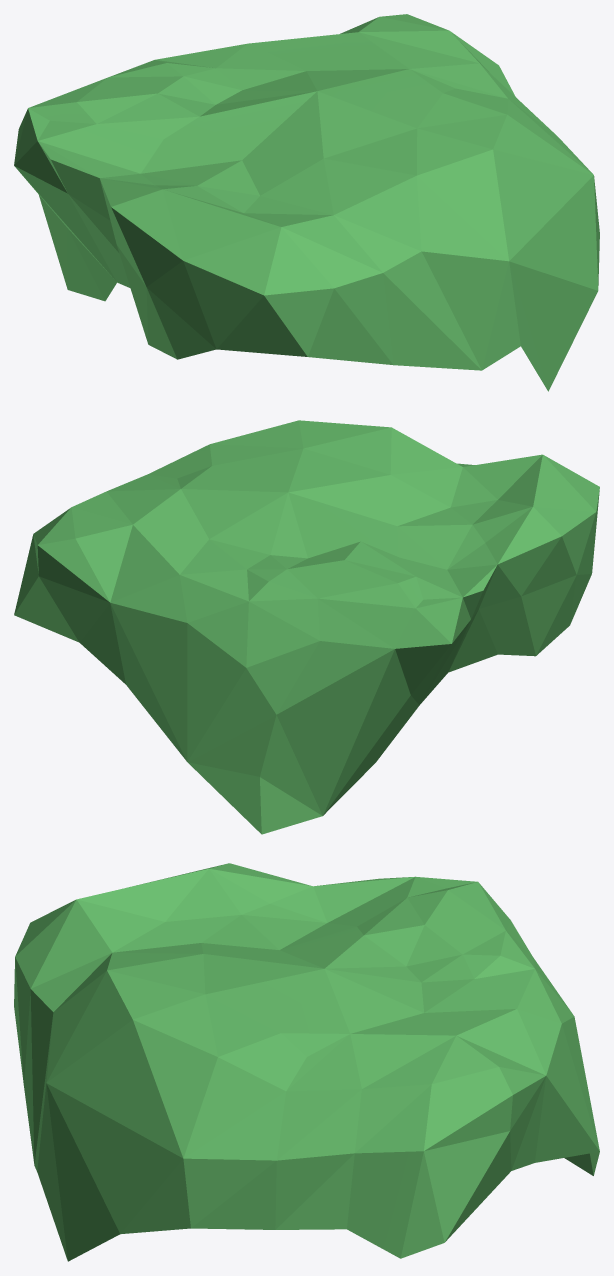
File: ground_043.fbx
The picture shows the model from 3 angles, top to bottom: view 1: azimuth 30°, elevation 25°; view 2: azimuth 150°, elevation 25°; view 3: azimuth 270°, elevation 25°; orthographic projection. The views are drawn at different scales.
Parts seen in each view (by area): view 1: ground.043; view 2: ground.043; view 3: ground.043.
Part boxes in pixels (x1,y1,x2,y2): ground.043: [14, 14, 599, 391]; ground.043: [14, 420, 599, 834]; ground.043: [14, 863, 599, 1261].
Size of the model in its own units: 2139 by 1033 by 2119.
Materials: 1 (1 with a texture image).
